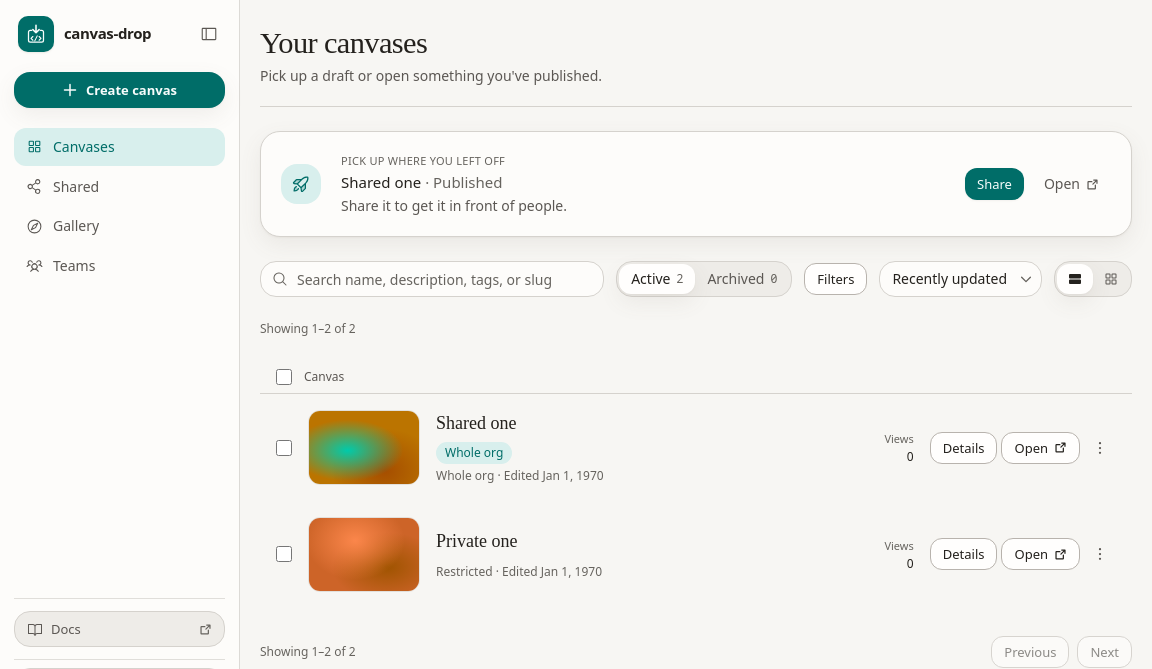
Scenario: Your canvases — server-side filters (plan 005) › filters to shared via the Shared chip
Expected: the link "Private one" is shown, left=436, top=531, right=518, bottom=551
Expected: the link "Shared one" is shown, left=436, top=413, right=516, bottom=433
Step 1. Click the button "Filters" → coordinates (836, 279), box left=804, top=263, right=867, bottom=295
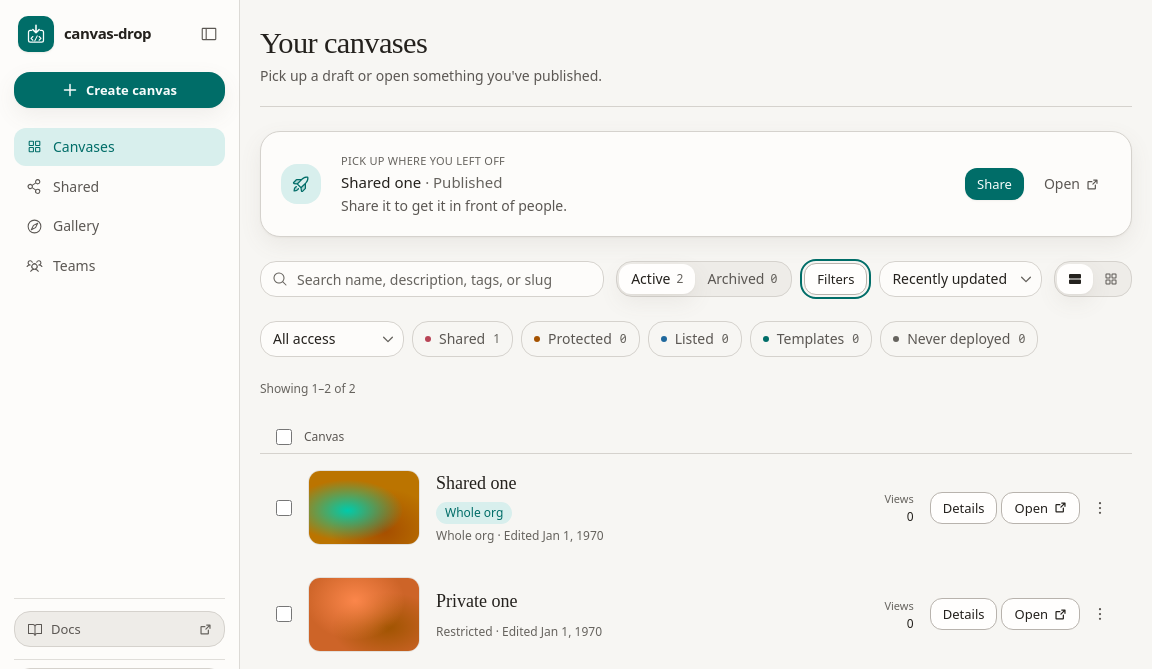
Step 2. Click the button "Shared 1" → coordinates (463, 339), box left=412, top=321, right=513, bottom=357
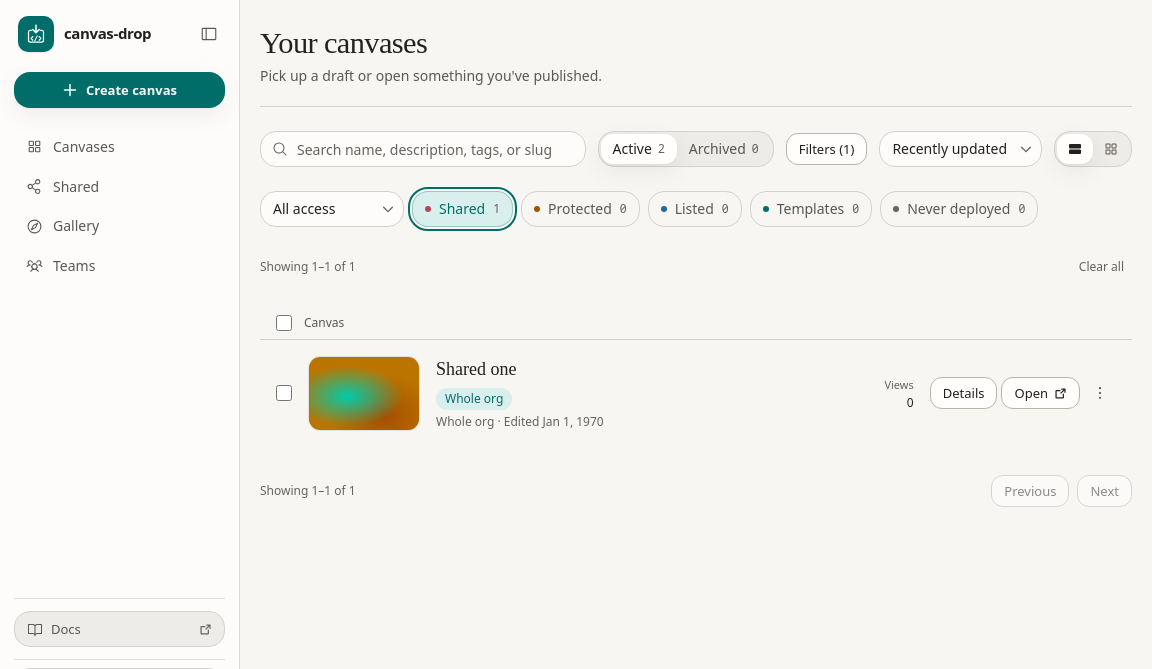
Expected: the link "Shared one" is shown, left=436, top=359, right=516, bottom=379
Result: the link "Private one" is gone
